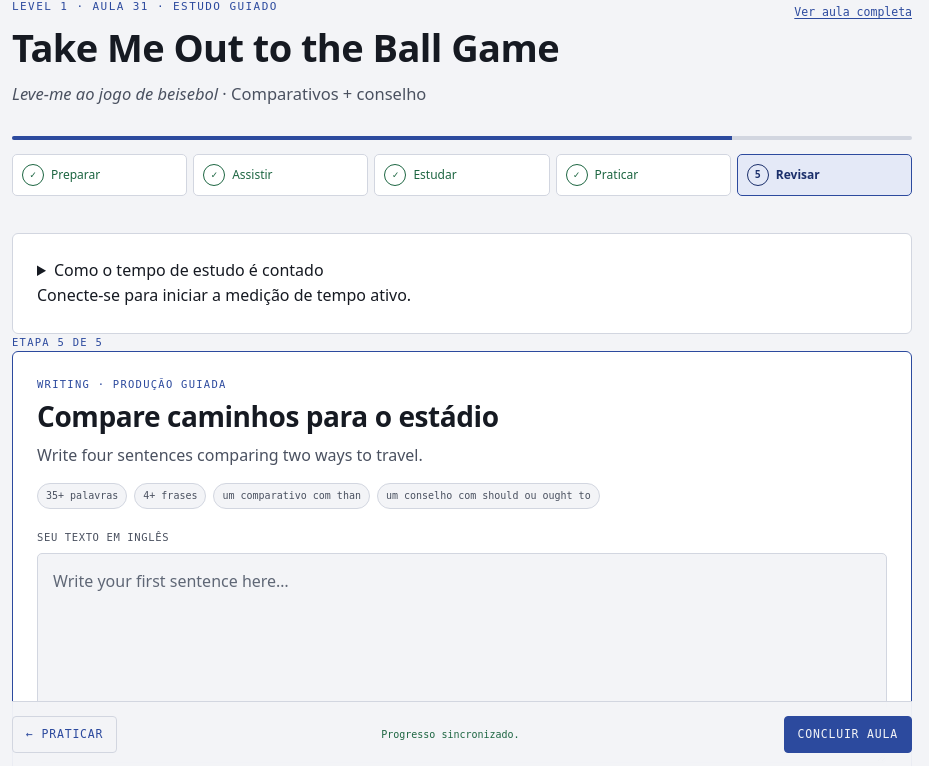
Test case: StudyPage › conclui a jornada e marca a aula como estudada no servidor
Click the button "Concluir aula".
click(848, 734)  # box [784,716,912,752]
(page scrolled)
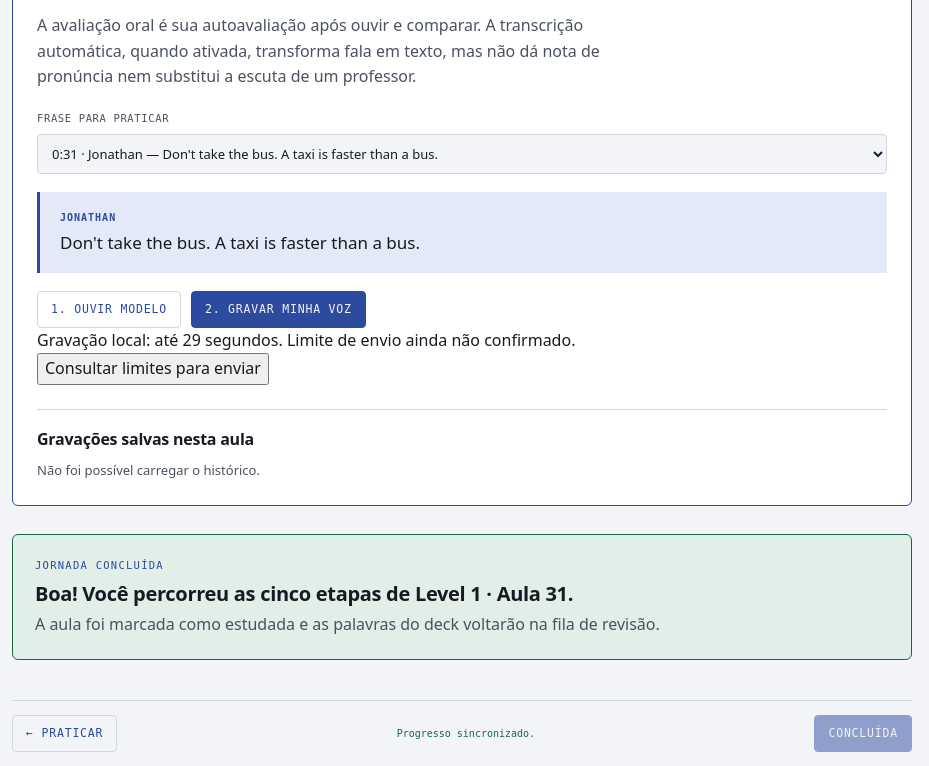
Check: the message named "Conclusão da jornada" shows "Você percorreu as cinco etapas de Level 1 · Aula 31", box [12,534,912,660]
